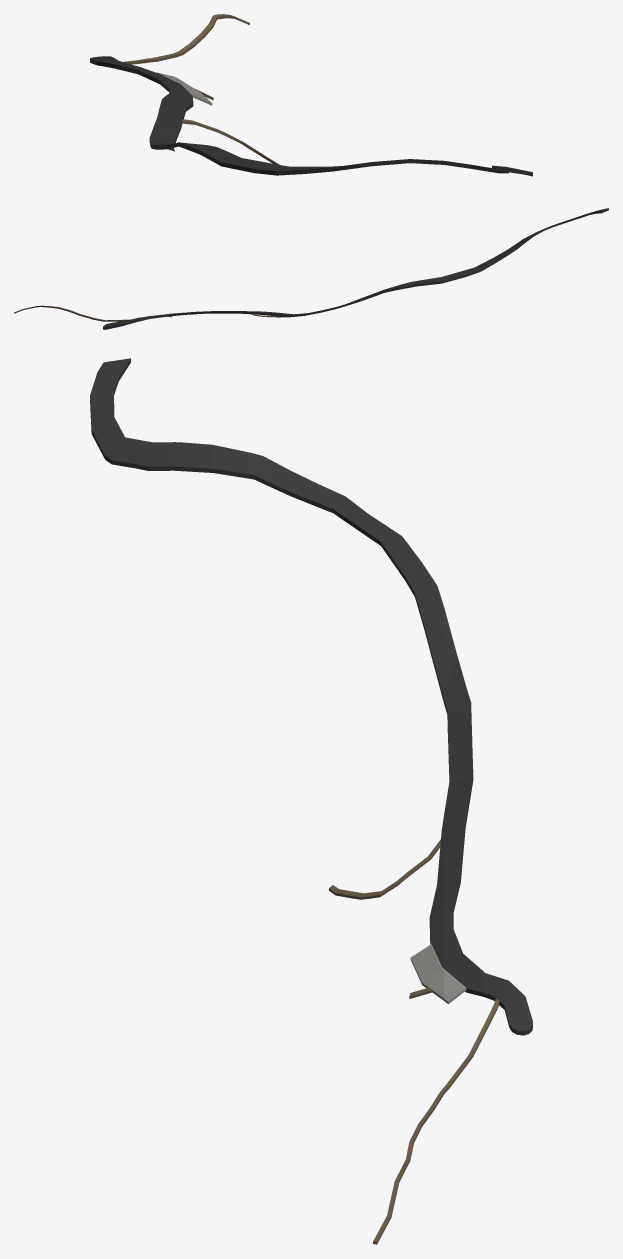
The picture shows the model from 3 angles, top to bottom: view 1: azimuth 90°, elevation 25°; view 2: azimuth 150°, elevation 25°; view 3: azimuth 270°, elevation 25°; orthographic projection. The views are drawn at different scales.
Bounding box in the file's own units: 315 × 107 × 115.
